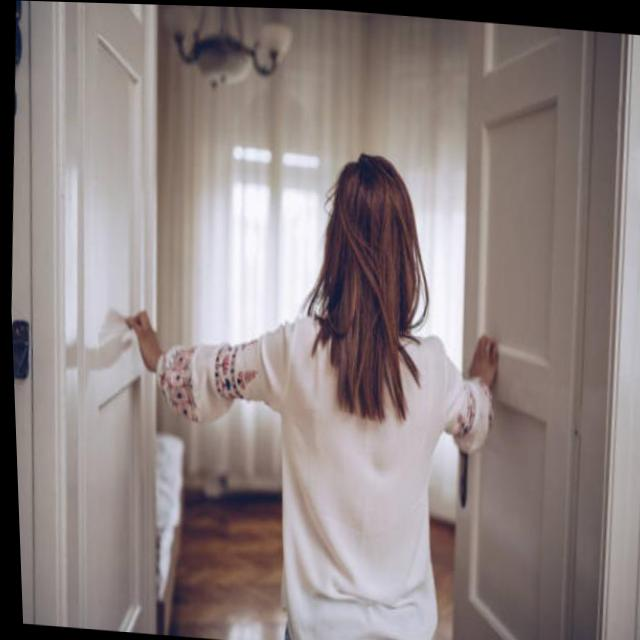no helmet: (305, 132, 436, 335)
